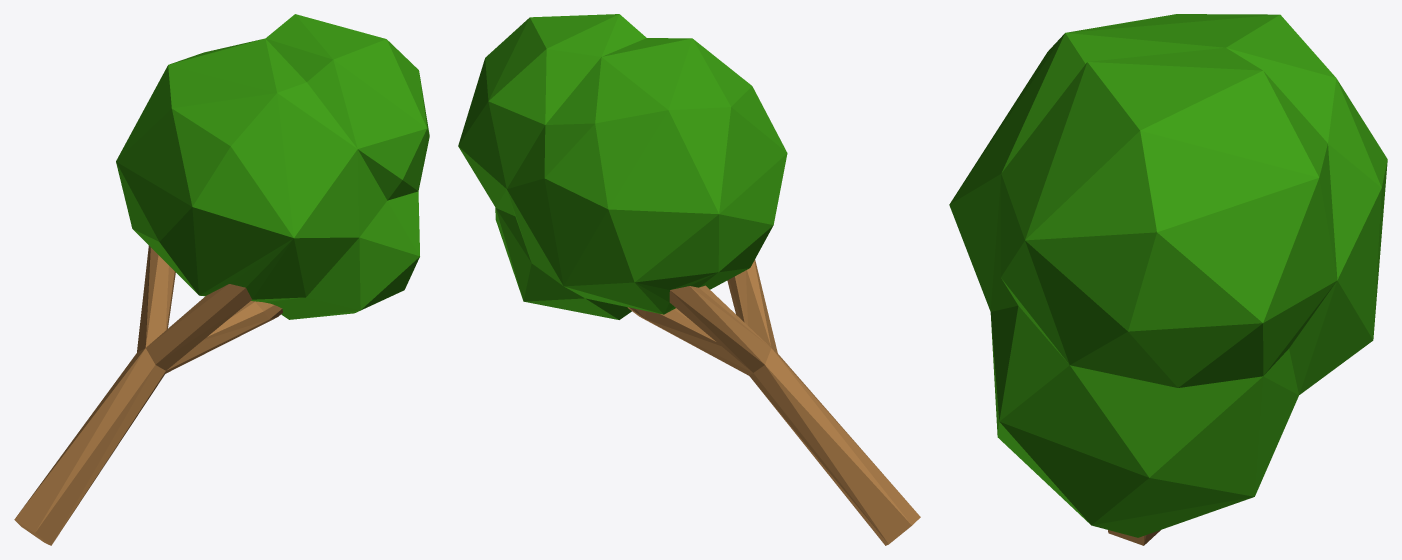
3 views of the same model, side by side, from view 1: azimuth 30°, elevation 25°; view 2: azimuth 150°, elevation 25°; view 3: azimuth 270°, elevation 25° (orthographic). The views are drawn at different scales.
Parts seen in each view (by area): view 1: Mesh_0.001; view 2: Mesh_0.001; view 3: Mesh_0.001.
Part boxes in pixels (<box>): Mesh_0.001: <box>14,14,429,545</box>; Mesh_0.001: <box>458,14,920,545</box>; Mesh_0.001: <box>949,14,1387,545</box>.
Size of the model in its own units: 14.26 by 14.42 by 8.14.
1 material, 1 textured.
